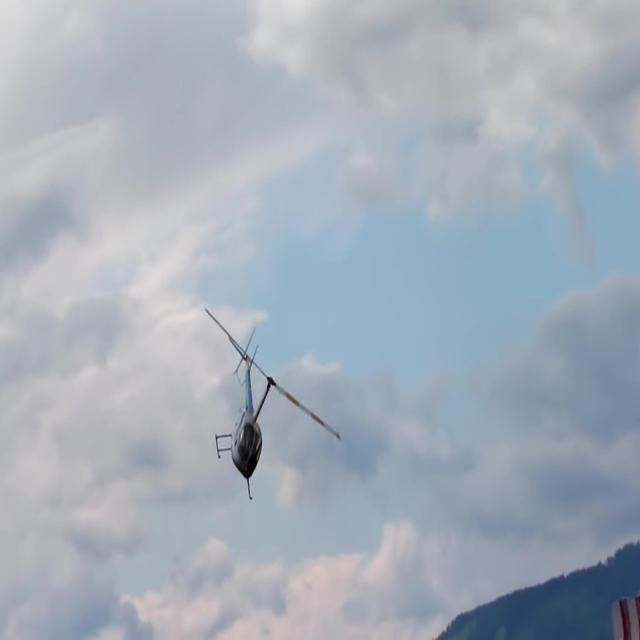CIV_HELO: (214, 326, 276, 504)
